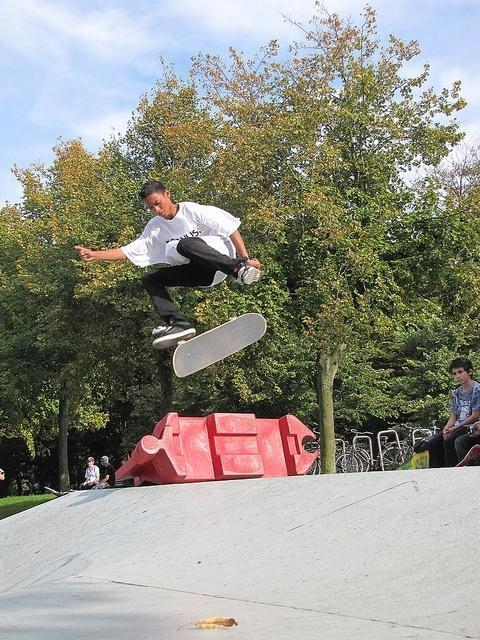bicycle: (351, 429, 412, 472), (313, 428, 359, 473), (344, 428, 374, 472), (400, 424, 434, 446), (306, 428, 320, 475)
